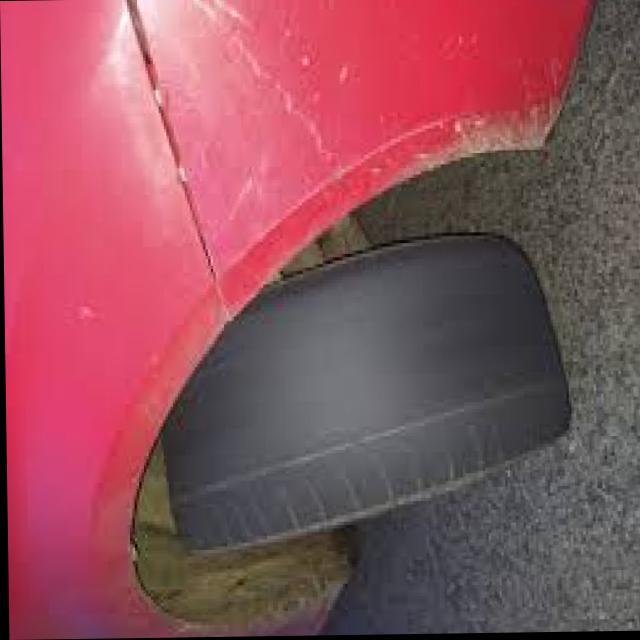Flat spots: (294, 262, 546, 416), (170, 426, 461, 495)
